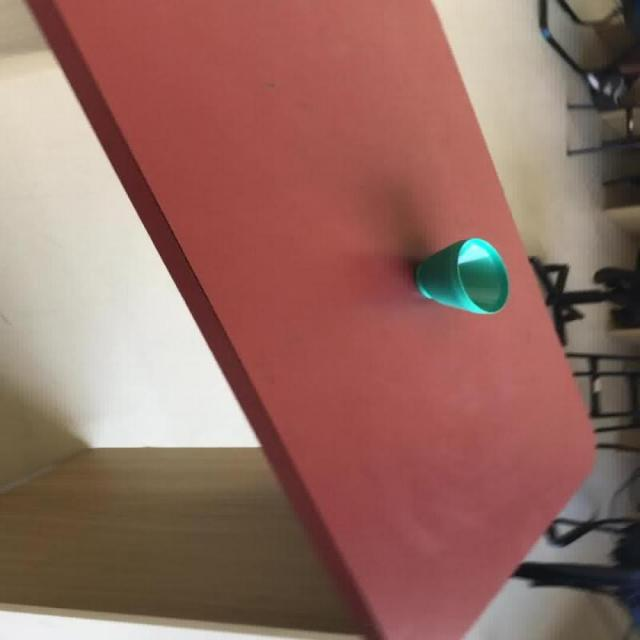Bowl: (20, 0, 599, 638)
